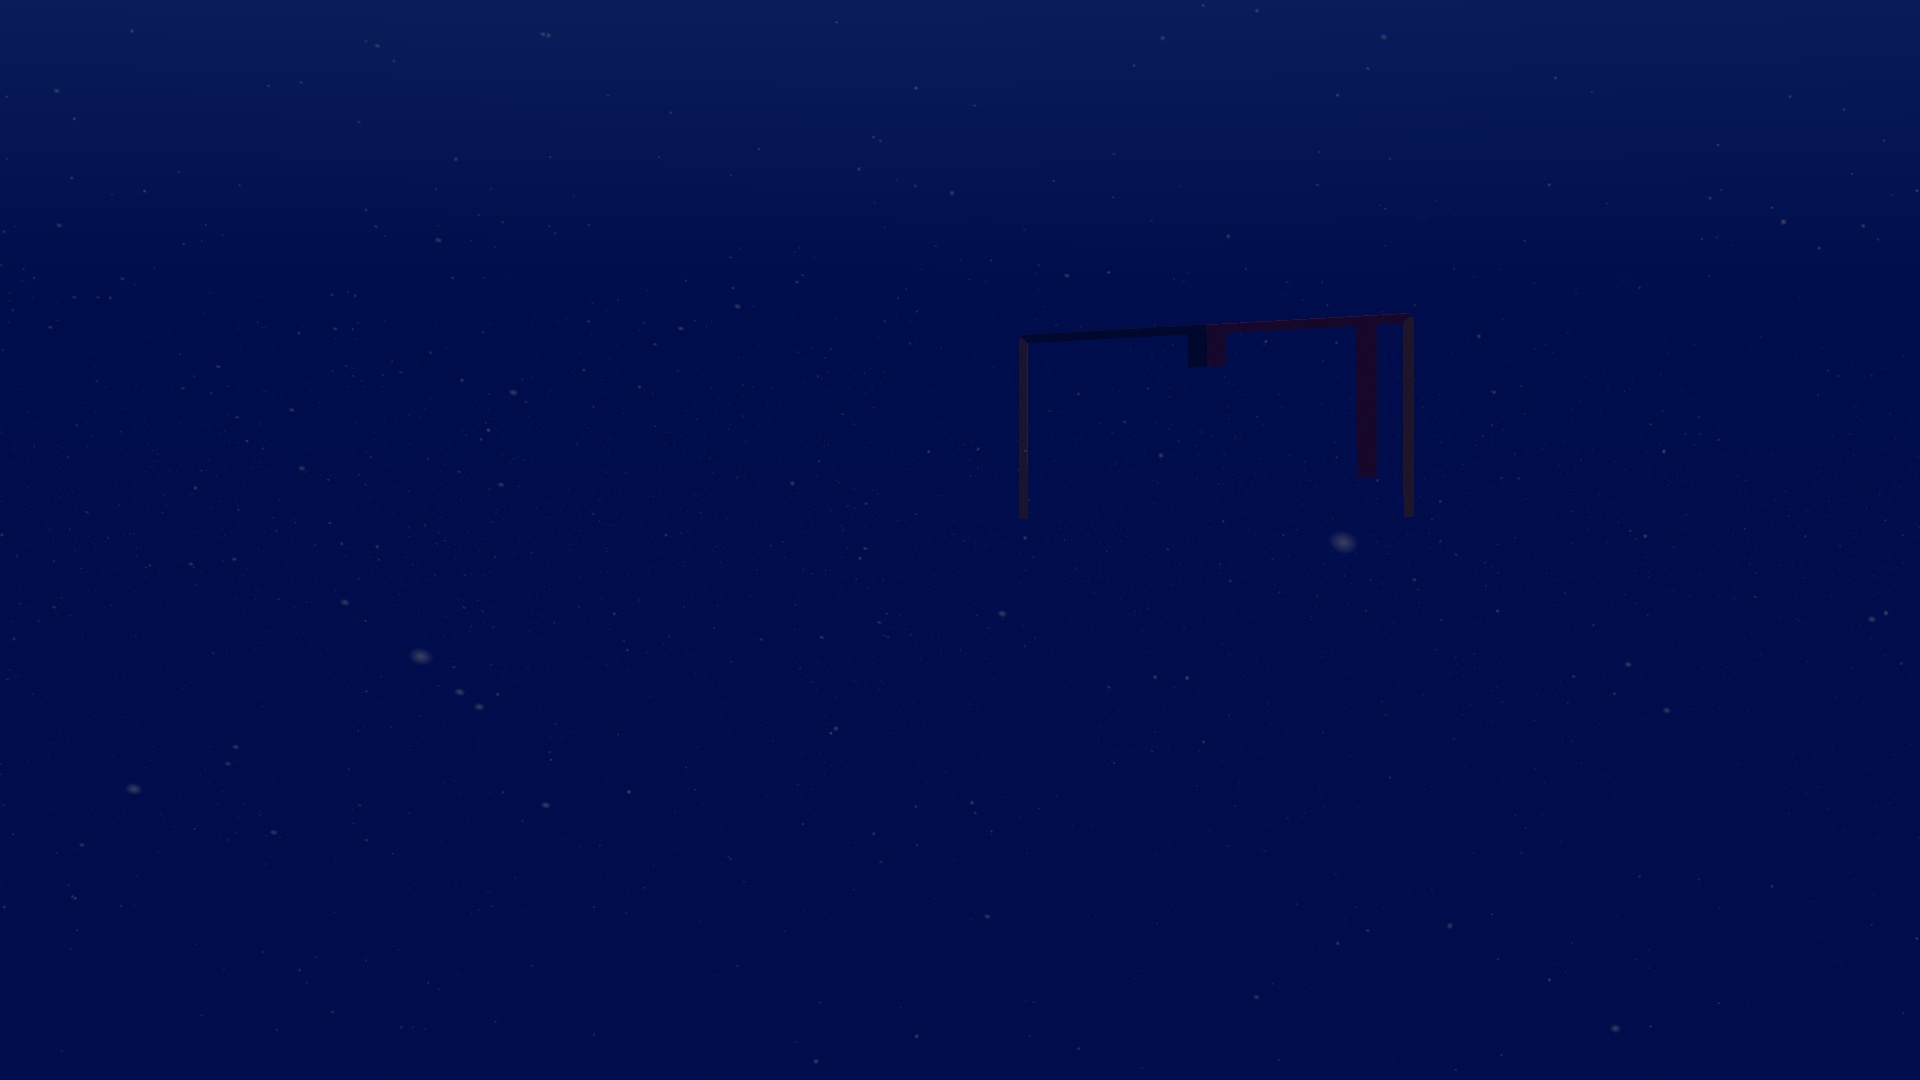Gate: (1011, 305, 1422, 530)
